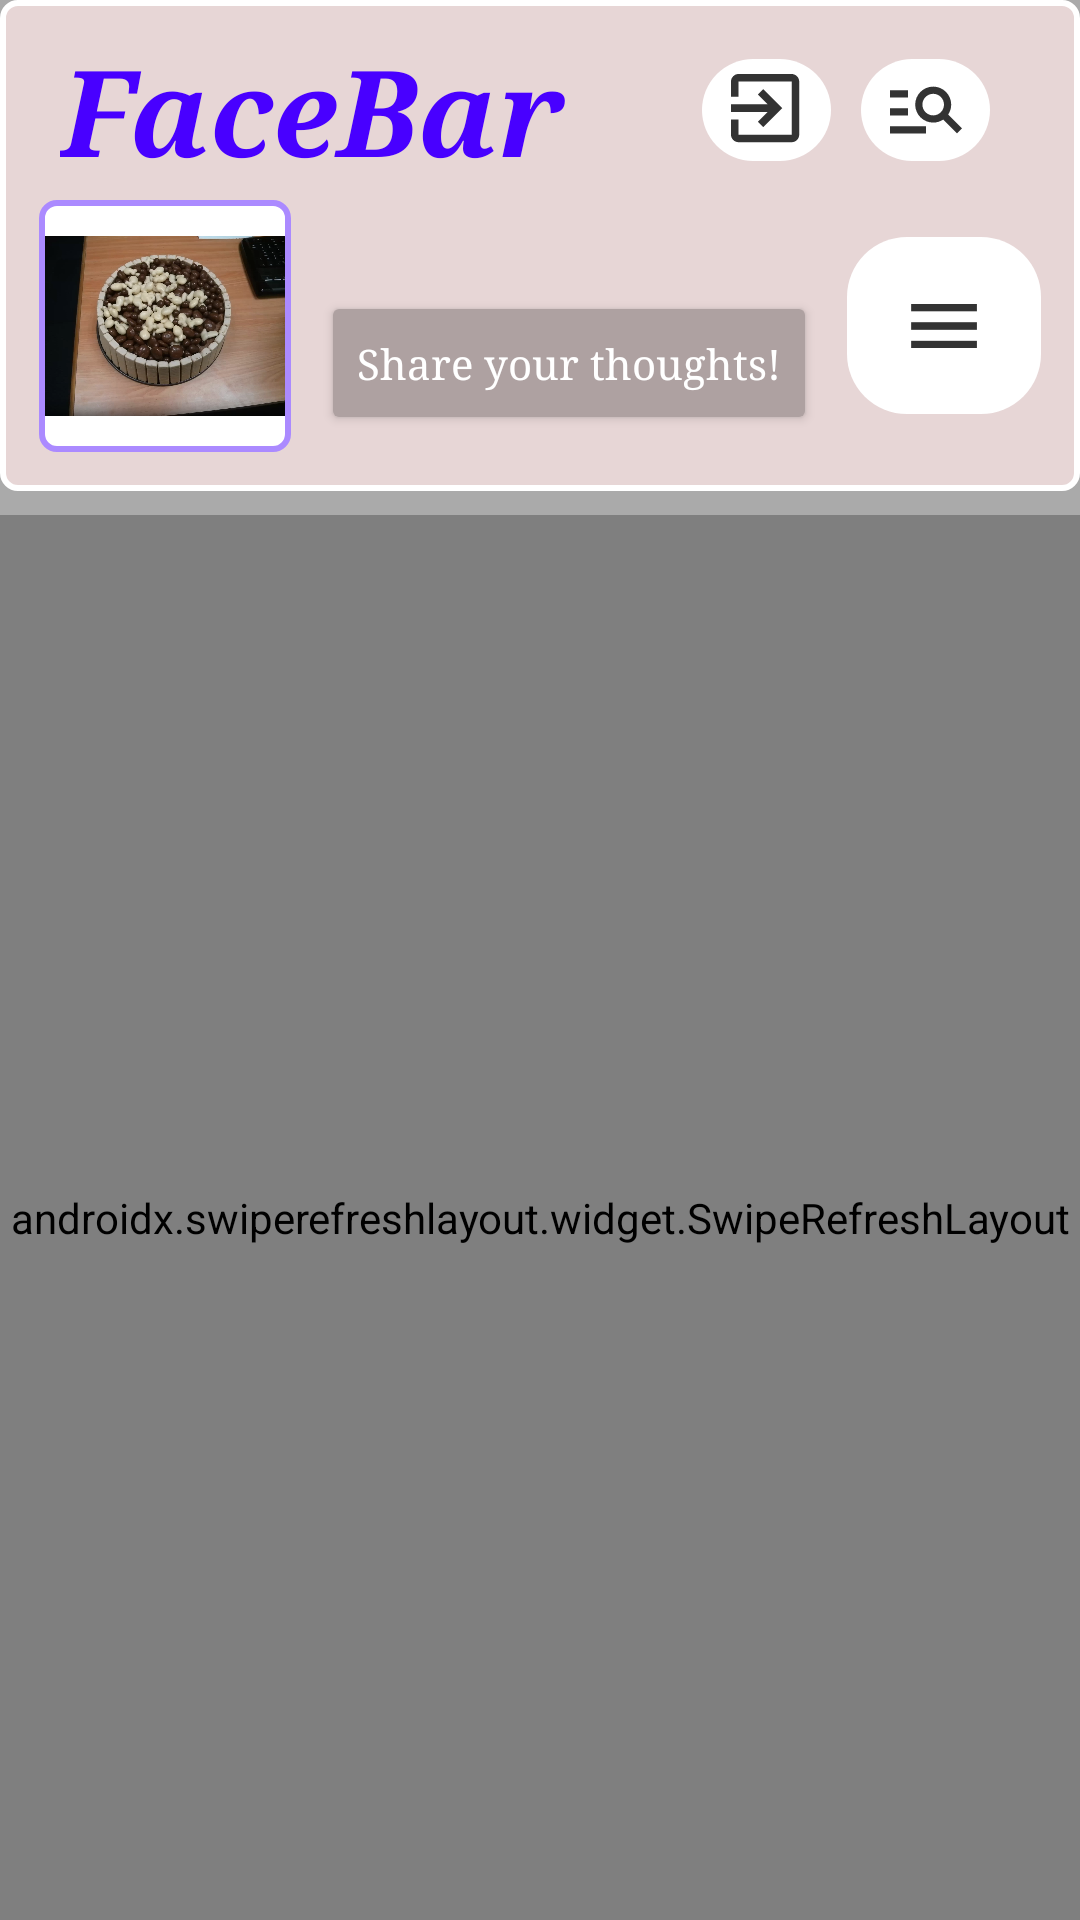

Screen size 1080w x 1920h. Icon name, then its box in pixels as (x1, y1, x2, y2):
log out sign: (702, 59, 831, 161)
menu: (847, 237, 1041, 414)
search sign: (861, 59, 990, 161)
